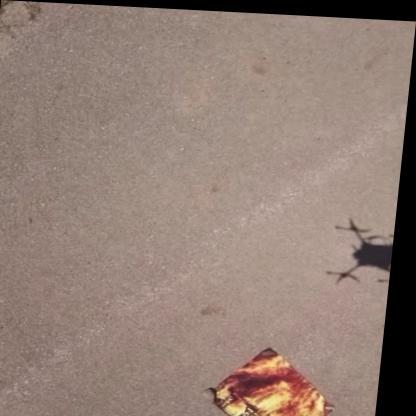fire-poster: (210, 342, 349, 416)
